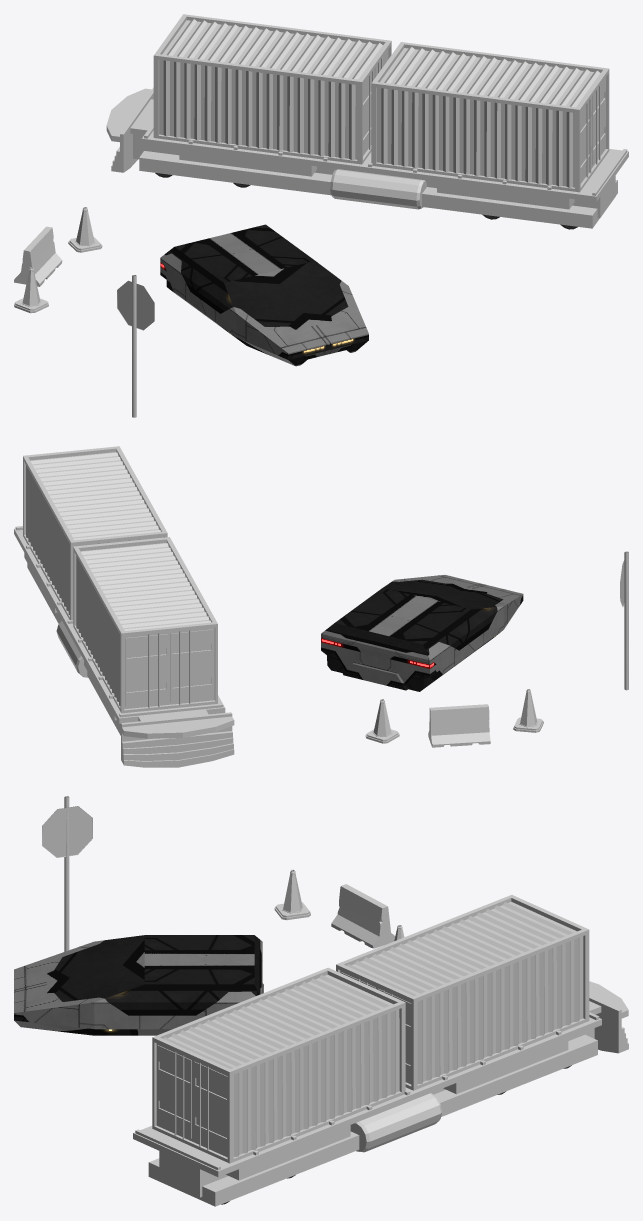
Rendered from car_scene_2.gltf.
The picture shows the model from 3 angles, top to bottom: view 1: azimuth 30°, elevation 25°; view 2: azimuth 150°, elevation 25°; view 3: azimuth 270°, elevation 25°; orthographic projection. The views are drawn at different scales.
Visible parts, largest first — view 1: Wagon_Container, SF_LODs_set_002_01, Concrete_Barrier_Cube, object 11, Cone_Cube.001, Cone_Cube.002, Cilindro; view 2: Wagon_Container, SF_LODs_set_002_01, Concrete_Barrier_Cube, Cone_Cube.001, Cilindro, Cone_Cube.002; view 3: Wagon_Container, SF_LODs_set_002_01, Concrete_Barrier_Cube, object 11, Cone_Cube.002, Cilindro.
Part boxes in pixels (x1,y1,x2,y2): Wagon_Container: (106,14,628,228); SF_LODs_set_002_01: (160,224,368,366); Concrete_Barrier_Cube: (14,226,62,286); object 11: (117,280,154,330); Cone_Cube.001: (68,207,102,252); Cone_Cube.002: (14,267,48,313); Cilindro: (132,275,136,417); Wagon_Container: (14,446,234,767); SF_LODs_set_002_01: (321,575,523,691); Concrete_Barrier_Cube: (428,704,490,747); Cone_Cube.001: (365,699,399,743); Cilindro: (624,551,628,690); Cone_Cube.002: (513,689,543,732); Wagon_Container: (133,895,628,1206); SF_LODs_set_002_01: (14,935,263,1035); Concrete_Barrier_Cube: (331,884,395,948); object 11: (42,806,92,857); Cone_Cube.002: (274,869,310,920); Cilindro: (64,796,69,951).
Bounding box in the file's own units: 14.4 × 3.82 × 11.97.
3 materials, 1 textured.
